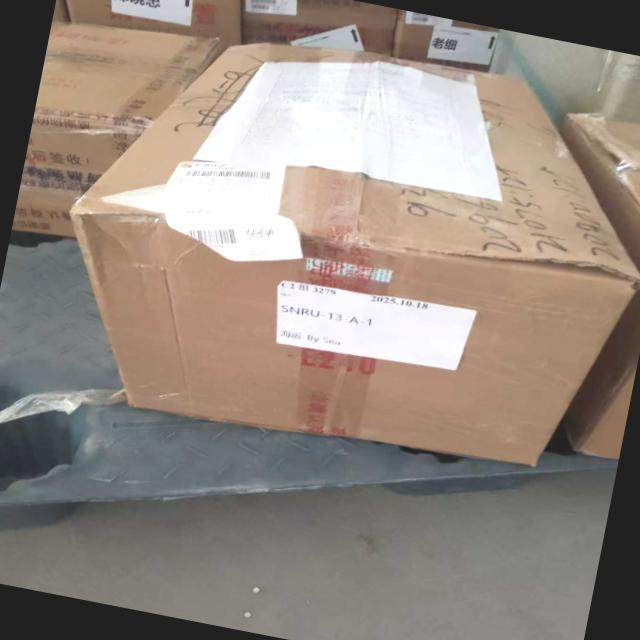carton_box: (34, 0, 640, 505)
export_mark_label: (261, 265, 503, 395)
package_damage: (477, 237, 640, 300)
